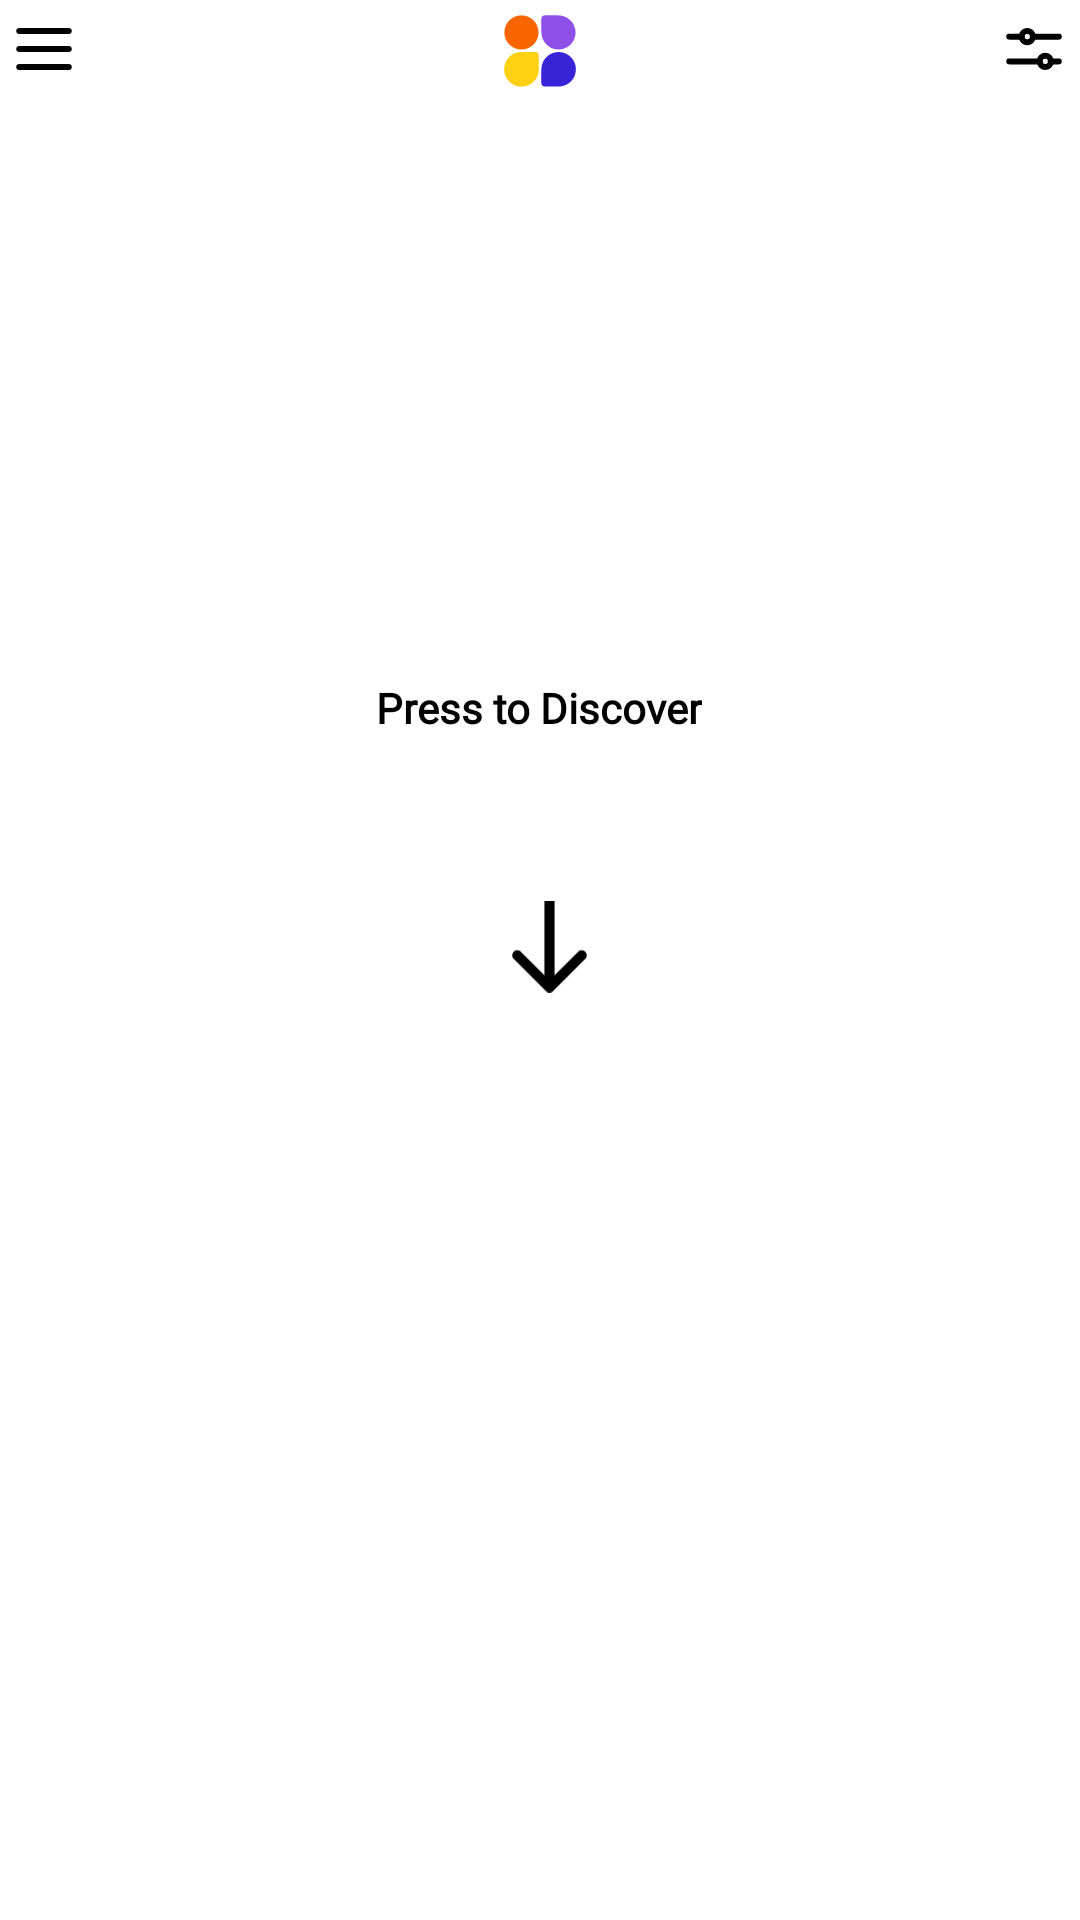

Where icons sit on this 1080px×1920px app screen, as (x1=x1, y1=y1, x2=x2, y2=y2):
arrow down: (x1=512, y1=901, x2=587, y2=993)
hamburger: (x1=16, y1=28, x2=72, y2=70)
sliders horizontal: (x1=1006, y1=28, x2=1062, y2=70)
